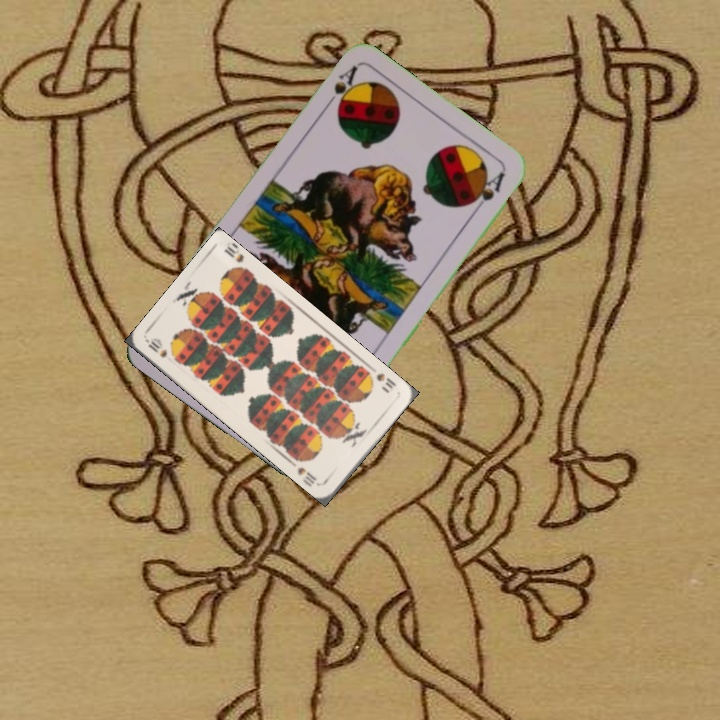S10: (363, 367, 398, 391), (144, 335, 170, 360)
SA: (318, 62, 360, 114)
